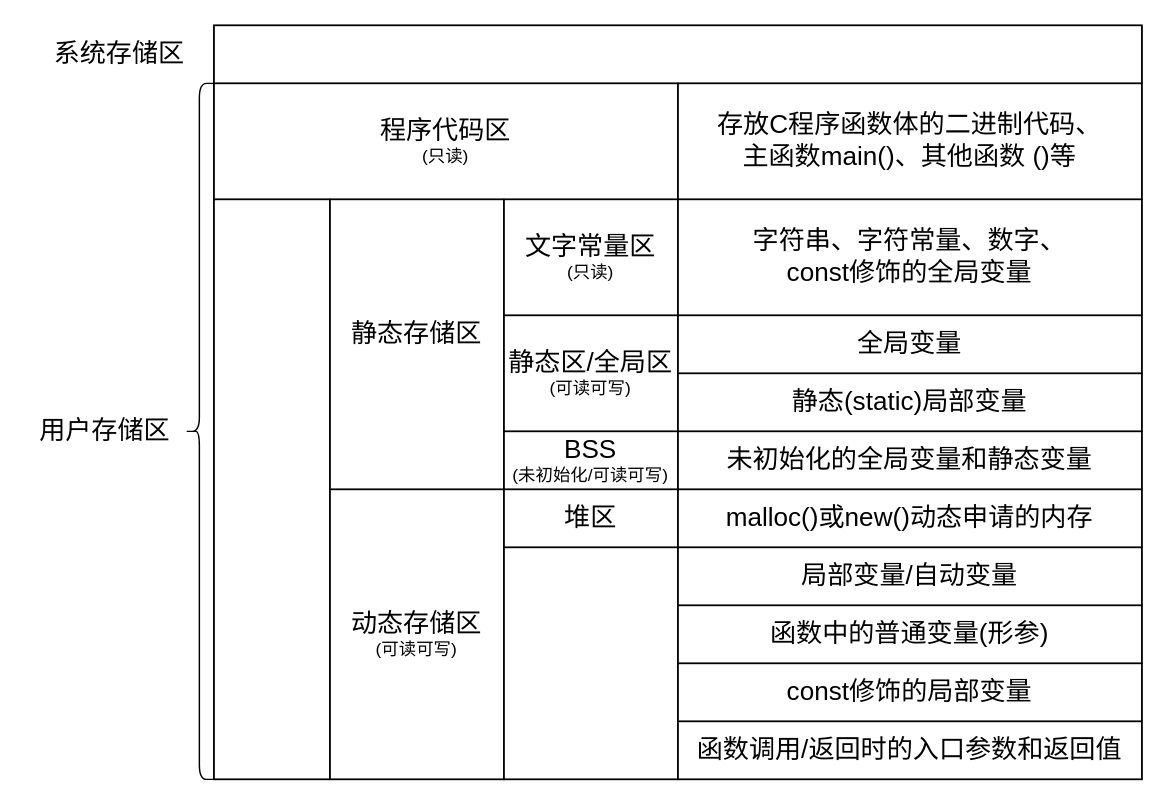
Some shapes in this 1167 by 805 pixel diagram are drawn without their labels. Each missing label, with the centre of its shape:
"操作系统(如Windows)、语言系统(如Visual C++)" belongs at point 677,53.
"数据区" belongs at point 271,488.
"栈区" belongs at point 590,662.
